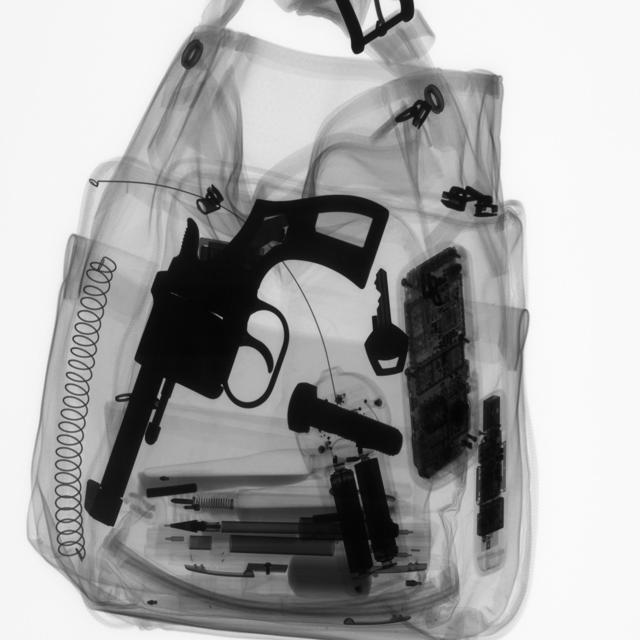gun: (77, 193, 397, 530)
